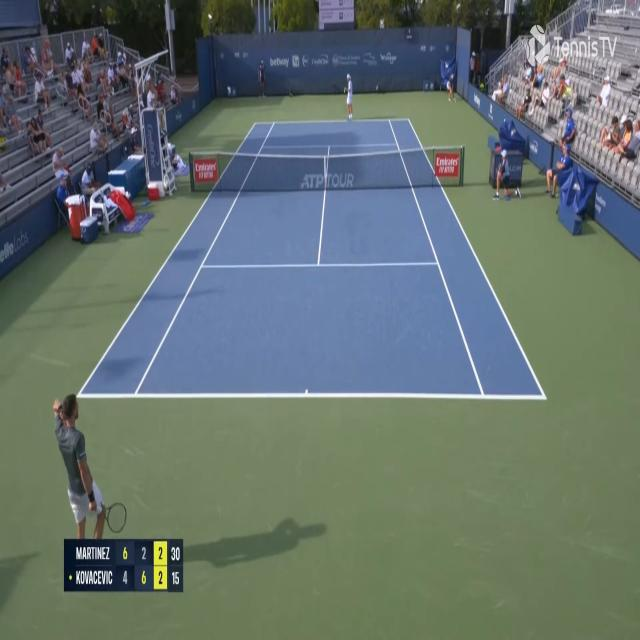tennis-player: (52, 383, 127, 550), (342, 73, 355, 124)
